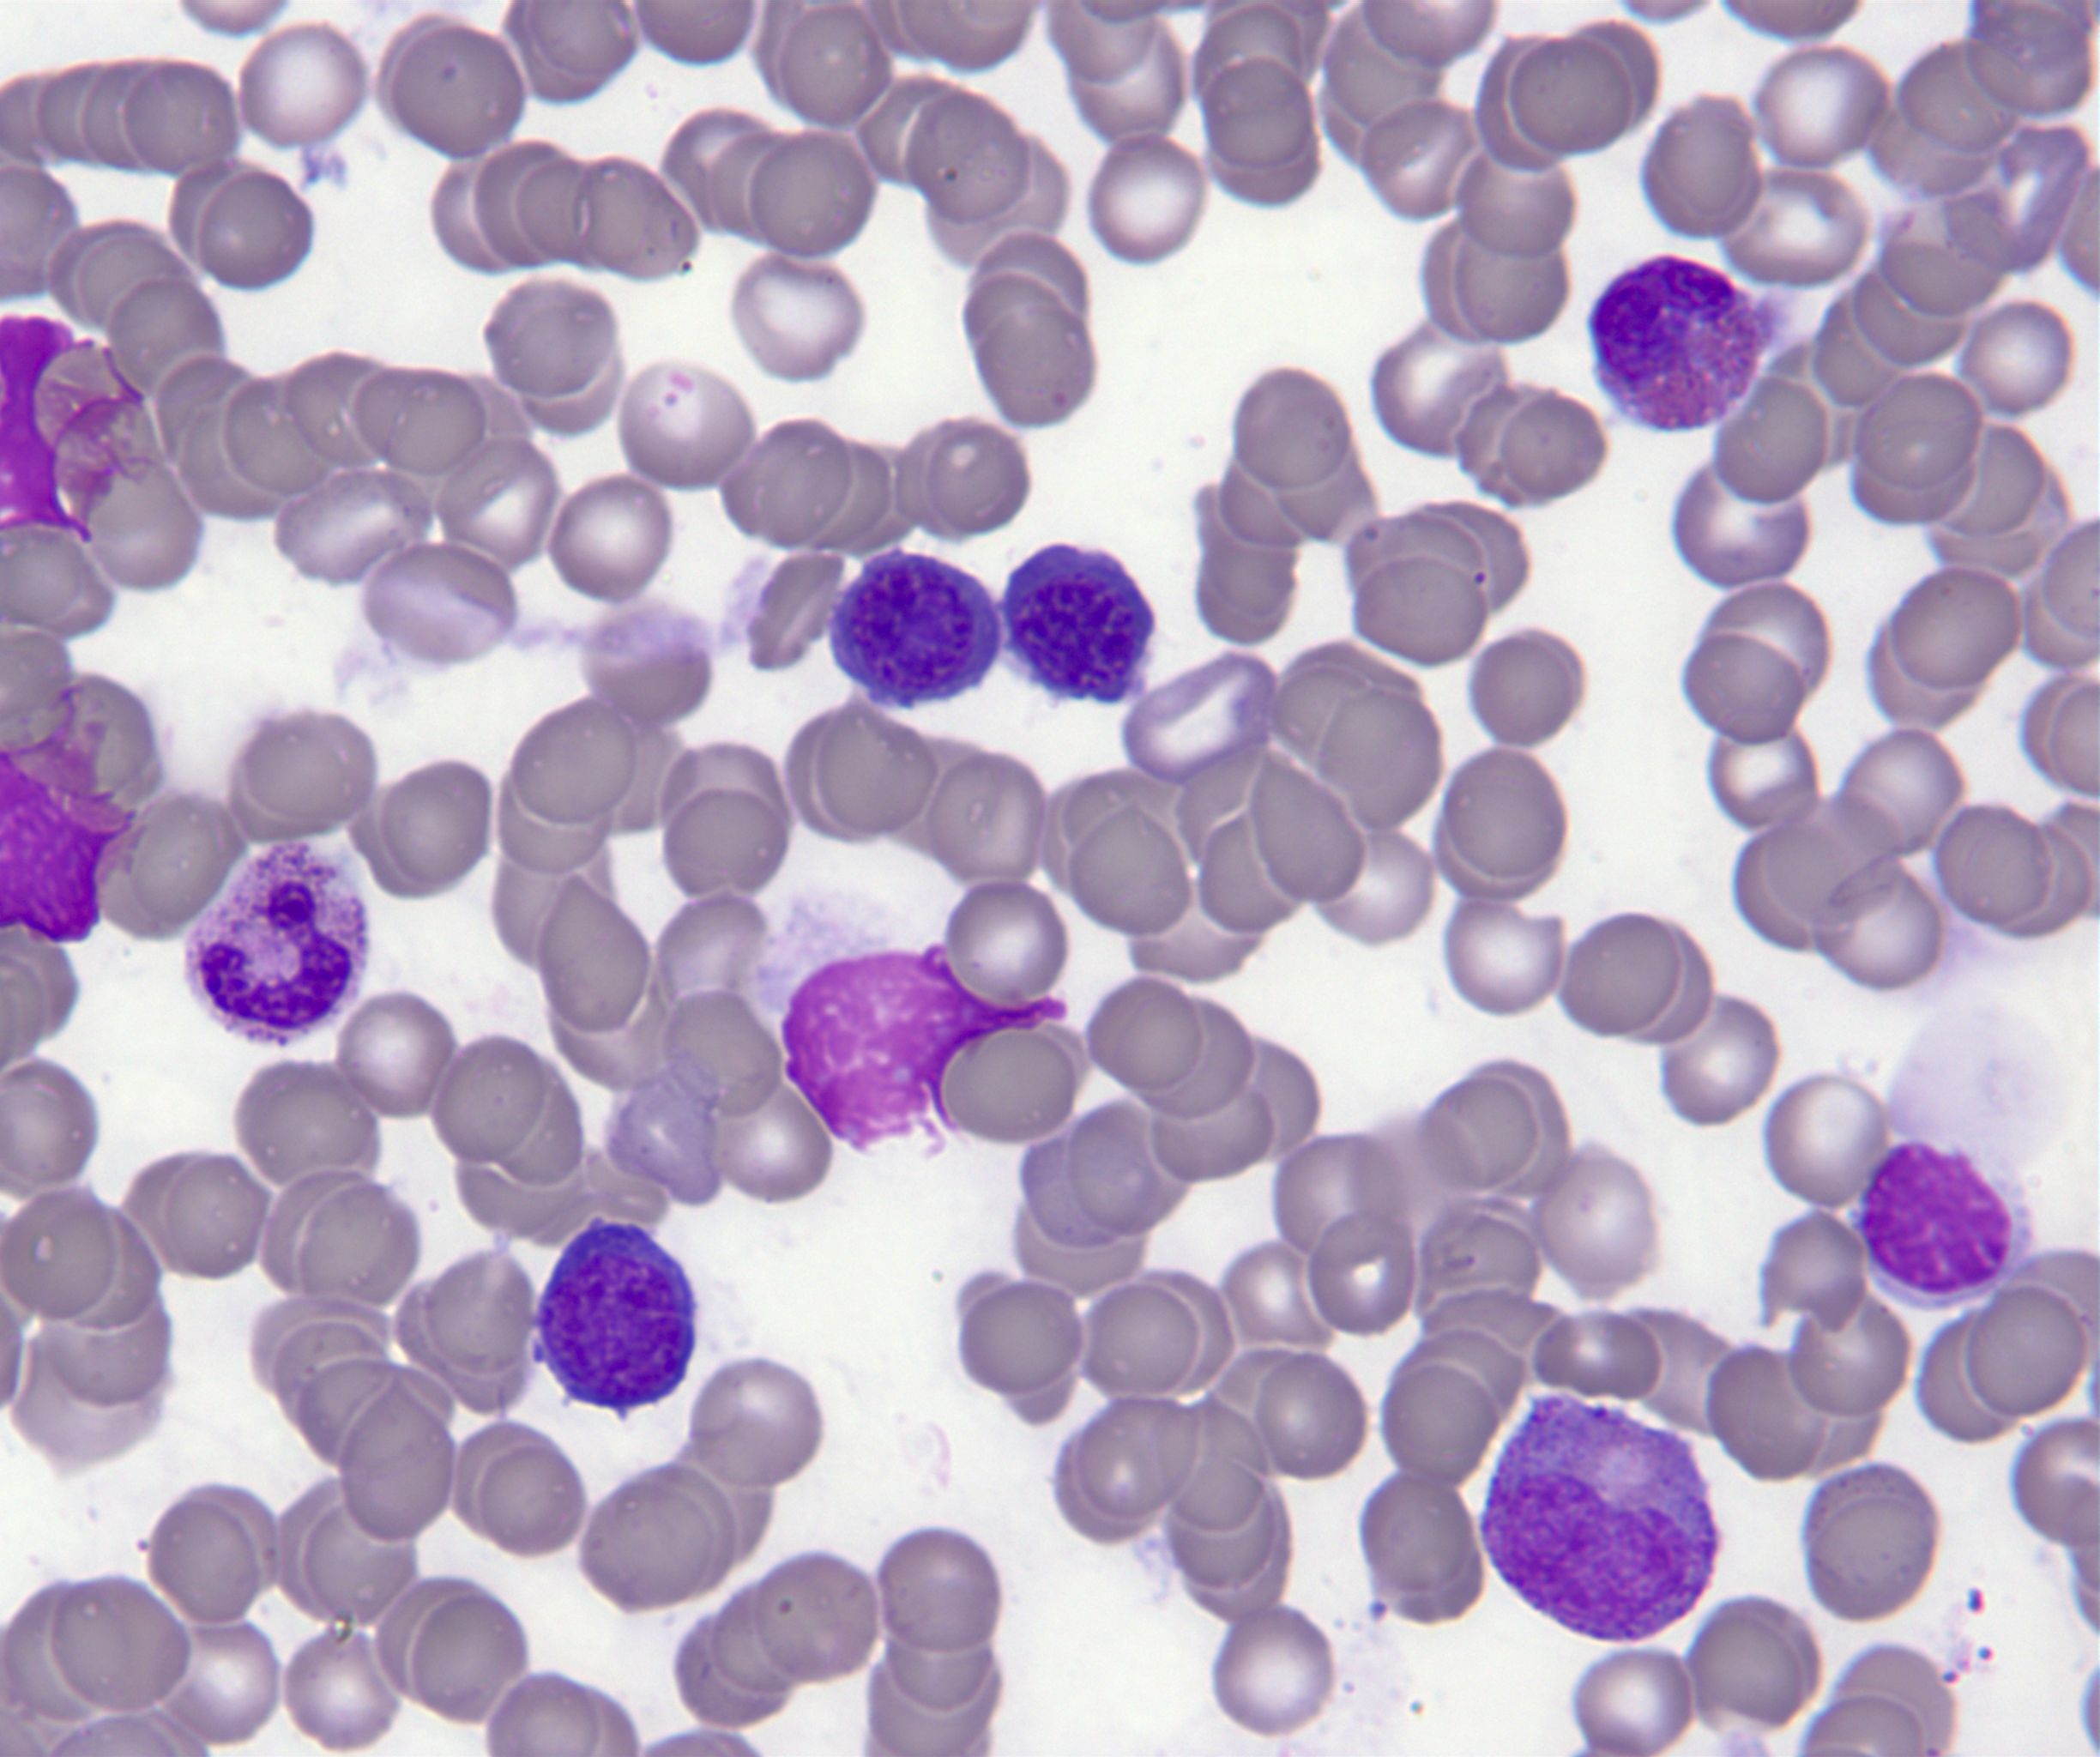23: (542, 1213, 698, 1415), (828, 546, 1003, 705), (1003, 544, 1156, 715)
4: (1481, 1387, 1728, 1642)
5: (178, 837, 368, 1045)
E4: (1591, 258, 1770, 434)
